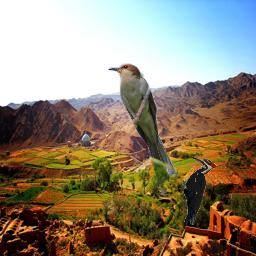Cuckoo: (108, 63, 178, 196)
Woodpecker: (183, 156, 219, 225)
